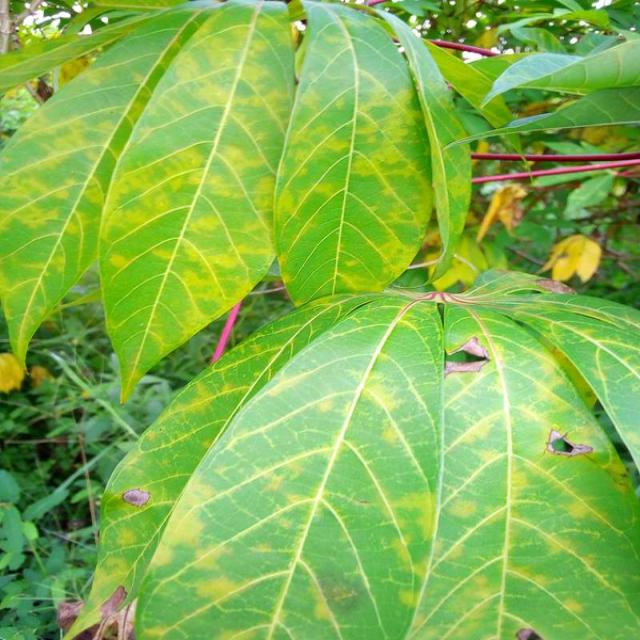cassava leaf: (69, 268, 638, 638), (0, 0, 297, 404)
